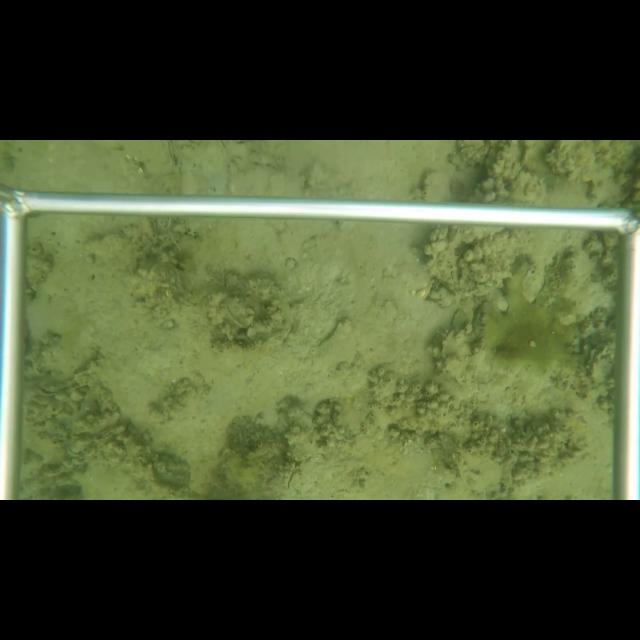Oyster-Closed: (221, 295, 259, 330), (420, 171, 458, 201)
Oyster-Open: (584, 337, 616, 389), (33, 377, 77, 399)
